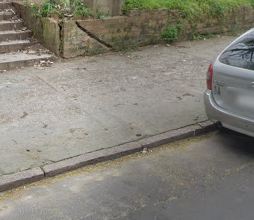vag28: (1, 93, 193, 220)
